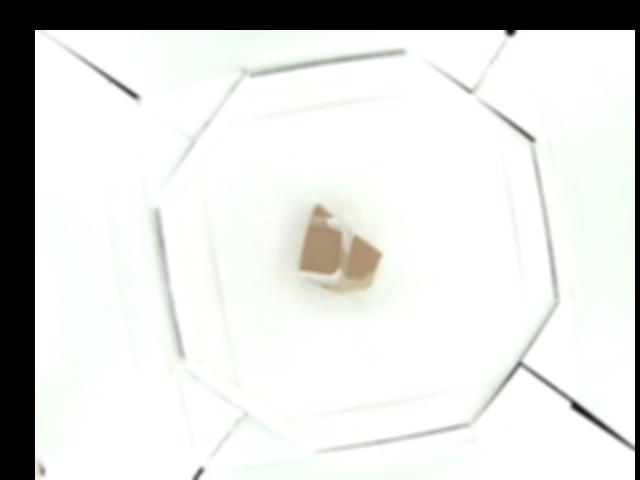China: (299, 206, 384, 295)
